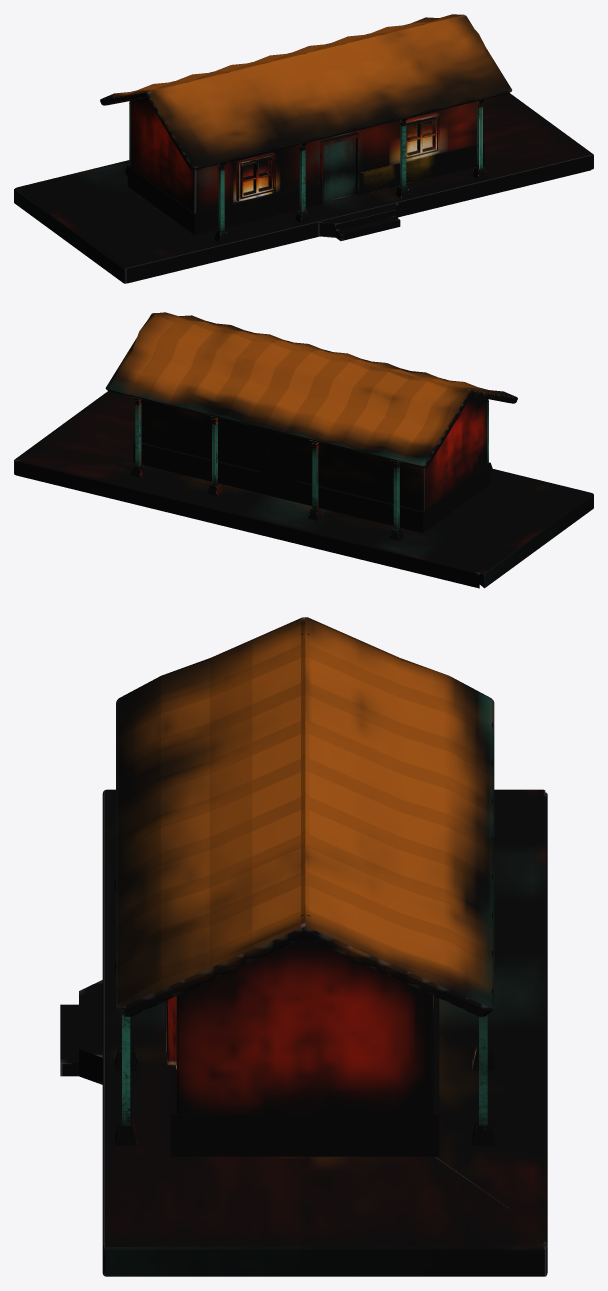
Rendered from casa malvada.fbx.
The picture shows the model from 3 angles, top to bottom: view 1: azimuth 30°, elevation 25°; view 2: azimuth 150°, elevation 25°; view 3: azimuth 270°, elevation 25°; orthographic projection. The views are drawn at different scales.
Parts seen in each view (by area): view 1: casa_malvada_PINTAR; view 2: casa_malvada_PINTAR; view 3: casa_malvada_PINTAR.
Boxes of the visible parts, x1,y1,x2,y2 form: casa_malvada_PINTAR: [14, 14, 593, 283]; casa_malvada_PINTAR: [14, 312, 593, 588]; casa_malvada_PINTAR: [60, 617, 547, 1276].
Size of the model in its own units: 3380 by 944 by 1515.
2 materials, 2 textured.
